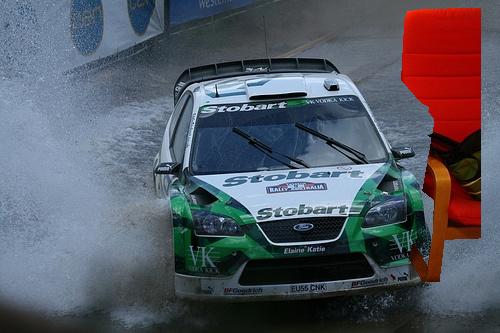tampered: (402, 9, 481, 282)
